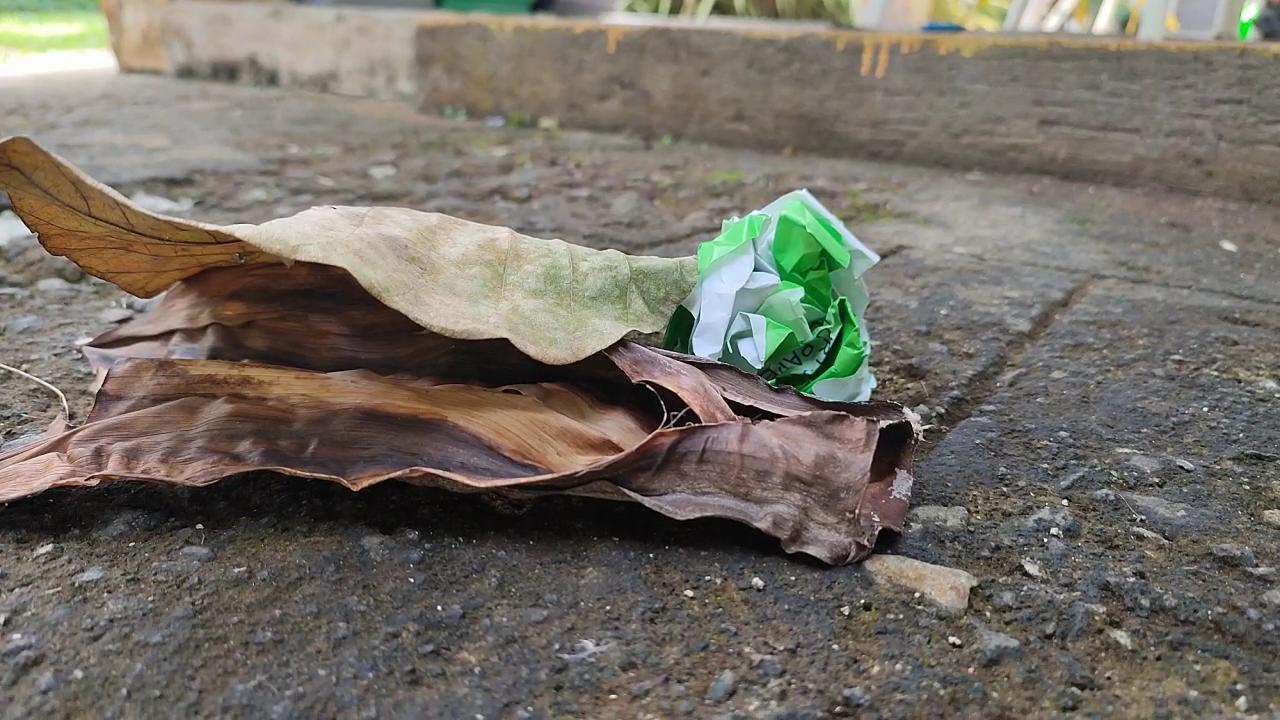Paper: (686, 185, 902, 413)
